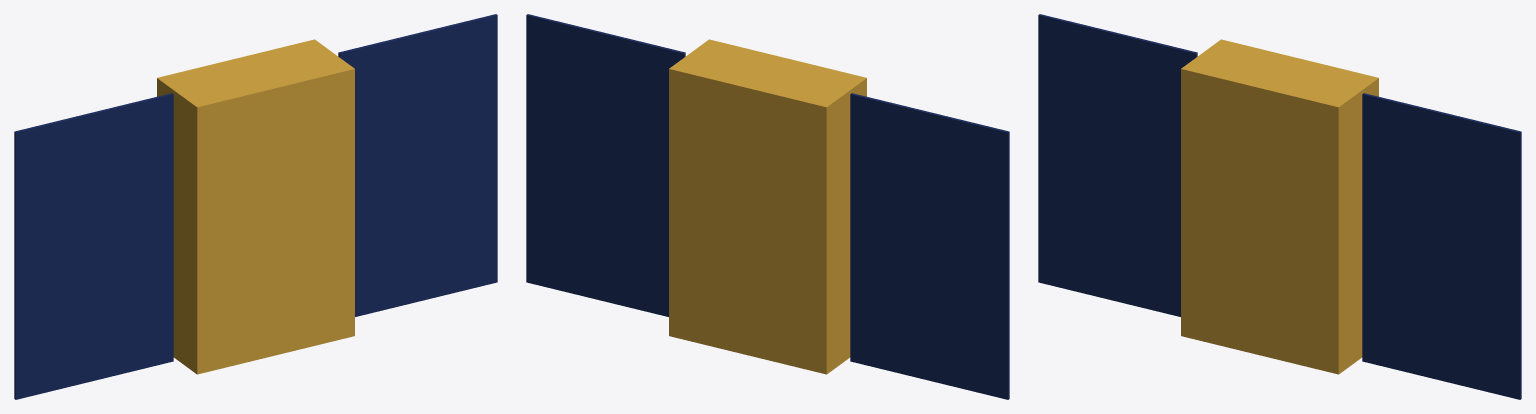
The model's file is SP-AMR-6U.glb.
The picture shows the model from 3 angles, left to right: view 1: azimuth 30°, elevation 25°; view 2: azimuth 150°, elevation 25°; view 3: azimuth 330°, elevation 25°; orthographic projection.
Parts seen in each view (by area): view 1: 6U_structure, deployable_panel_-X, deployable_panel_+X; view 2: 6U_structure, deployable_panel_-X, deployable_panel_+X; view 3: 6U_structure, deployable_panel_+X, deployable_panel_-X.
Part boxes in pixels (x1,y1,x2,y2): 6U_structure: (157, 39, 354, 374); deployable_panel_-X: (14, 93, 173, 399); deployable_panel_+X: (338, 14, 497, 316); 6U_structure: (669, 39, 866, 374); deployable_panel_-X: (850, 93, 1009, 399); deployable_panel_+X: (526, 14, 685, 316); 6U_structure: (1181, 39, 1378, 374); deployable_panel_+X: (1362, 93, 1521, 399); deployable_panel_-X: (1038, 14, 1197, 316).
Size of the model in its own units: 0.6909 by 0.366 by 0.1.
